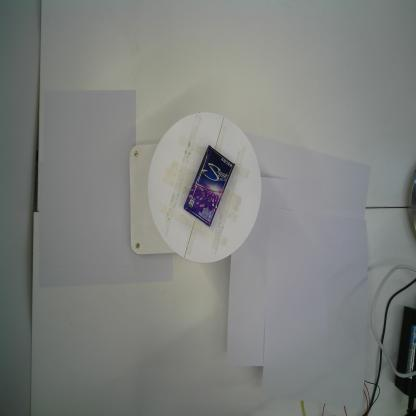Gum: (183, 144, 236, 228)
